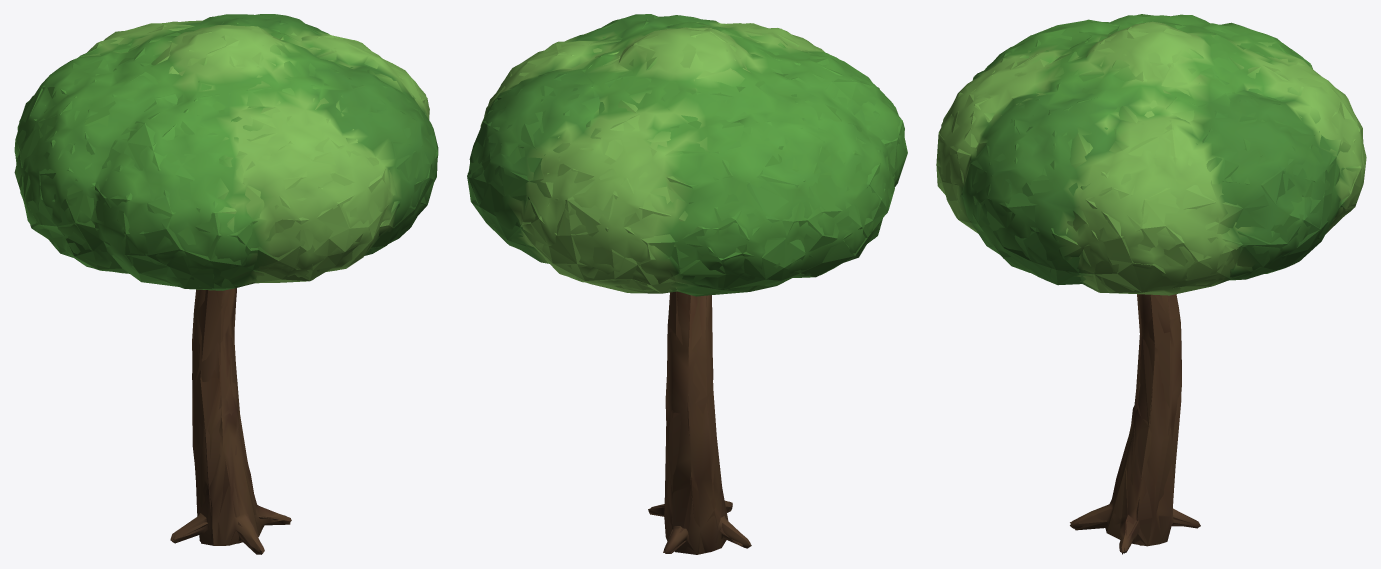
Rendered from broadleaf_mature_medium_rounded_dense_healthy.glb.
The picture shows the model from 3 angles, left to right: view 1: azimuth 30°, elevation 25°; view 2: azimuth 150°, elevation 25°; view 3: azimuth 270°, elevation 25°; orthographic projection.
Parts seen in each view (by area): view 1: broadleaf_mature_medium_rounded_dense_healthy_LOD1, broadleaf_mature_medium_rounded_dense_healthy_LOD2; view 2: broadleaf_mature_medium_rounded_dense_healthy_LOD1, broadleaf_mature_medium_rounded_dense_healthy_LOD2; view 3: broadleaf_mature_medium_rounded_dense_healthy_LOD1, broadleaf_mature_medium_rounded_dense_healthy_LOD2.
Part boxes in pixels (x1,y1,x2,y2): broadleaf_mature_medium_rounded_dense_healthy_LOD1: (14, 14, 438, 554); broadleaf_mature_medium_rounded_dense_healthy_LOD2: (14, 15, 438, 554); broadleaf_mature_medium_rounded_dense_healthy_LOD1: (467, 14, 906, 554); broadleaf_mature_medium_rounded_dense_healthy_LOD2: (467, 14, 907, 554); broadleaf_mature_medium_rounded_dense_healthy_LOD1: (936, 14, 1366, 553); broadleaf_mature_medium_rounded_dense_healthy_LOD2: (936, 14, 1366, 554).
Bounding box in the file's own units: 3.27 × 4.17 × 3.2.
